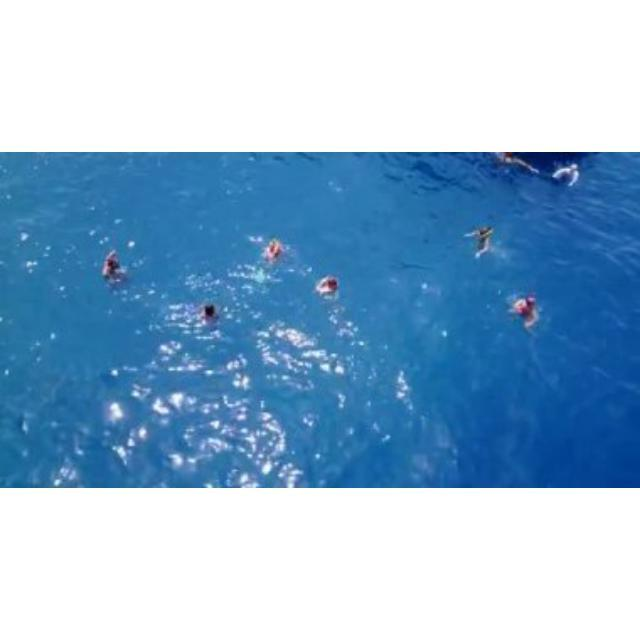human: (509, 296, 541, 326), (463, 224, 491, 256), (553, 162, 581, 185), (102, 250, 122, 278), (317, 275, 340, 296), (199, 301, 219, 324), (265, 237, 283, 260)
